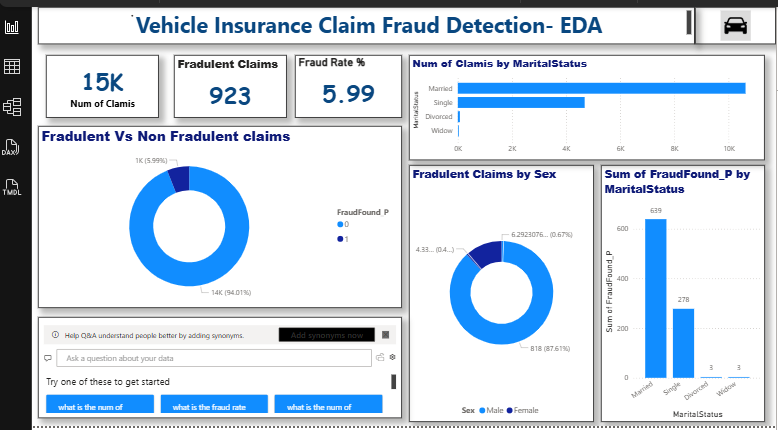

What the dashboard file says about the page in this screenshot:
{"tool":"powerbi","page":{"name":"Page 1","canvas":[1280,720],"ordinal":0},"visuals":[{"type":"textbox","box":[10.1,0,1130.5,63.8],"z":0},{"type":"textbox","box":[10,290,280,280],"z":1000},{"type":"image","box":[1140.6,0,139.4,63.8],"z":2000},{"type":"card","fields":{"Values":["Vehical_Fraud.Num of Clamis"]},"box":[24.1,82.6,194.4,108.4],"z":3000},{"type":"card","title":"Fradulent Claims","fields":{"Values":["Sum(Vehical_Fraud.FraudFound_P)"]},"box":[244.3,82.6,194.4,108.4],"z":4000},{"type":"card","title":"Fraud Rate %","fields":{"Values":["Vehical_Fraud.Fraud rate (%)"]},"box":[452.5,82.6,184.1,108.4],"z":5000},{"type":"donutChart","title":"Fradulent Vs Non Fradulent claims","fields":{"Category":["Vehical_Fraud.FraudFound_P"],"Y":["Vehical_Fraud.Num of Clamis"]},"box":[10.3,204.7,626.2,313.1],"z":6000},{"type":"donutChart","title":" Fradulent Claims by Sex","fields":{"Category":["Vehical_Fraud.Sex"],"Y":["Vehical_Fraud.Fraud rate (%)","Sum(Vehical_Fraud.FraudFound_P)"]},"box":[648.6,271.8,318.3,442.2],"z":7000},{"type":"lineClusteredColumnComboChart","fields":{"Category":["Vehical_Fraud.MaritalStatus"],"Y":["Sum(Vehical_Fraud.FraudFound_P)"]},"box":[978.9,271.8,282.2,442.2],"z":8000},{"type":"clusteredBarChart","fields":{"Category":["Vehical_Fraud.MaritalStatus"],"Y":["Vehical_Fraud.Num of Clamis"]},"box":[648.6,82.6,612.5,180.6],"z":9000},{"type":"qnaVisual","box":[10.3,533.3,626.2,173.8],"z":10000}]}

Visuals, with their boxes in screenshot pixels (x1, y1, x2, y2):
textbox: box(30, 4, 695, 42)
textbox: box(30, 175, 195, 339)
image: box(695, 4, 777, 42)
card - Vehical_Fraud.Num of Clamis: box(38, 53, 153, 116)
"Fradulent Claims" card: box(168, 53, 282, 116)
"Fraud Rate %" card: box(291, 53, 399, 116)
"Fradulent Vs Non Fradulent claims" donutChart: box(30, 124, 399, 309)
" Fradulent Claims by Sex" donutChart: box(406, 164, 593, 424)
lineClusteredColumnComboChart - Vehical_Fraud.MaritalStatus x Sum(Vehical_Fraud.FraudFound_P): box(600, 164, 766, 424)
clusteredBarChart - Vehical_Fraud.MaritalStatus x Vehical_Fraud.Num of Clamis: box(406, 53, 766, 159)
qnaVisual: box(30, 318, 399, 420)
